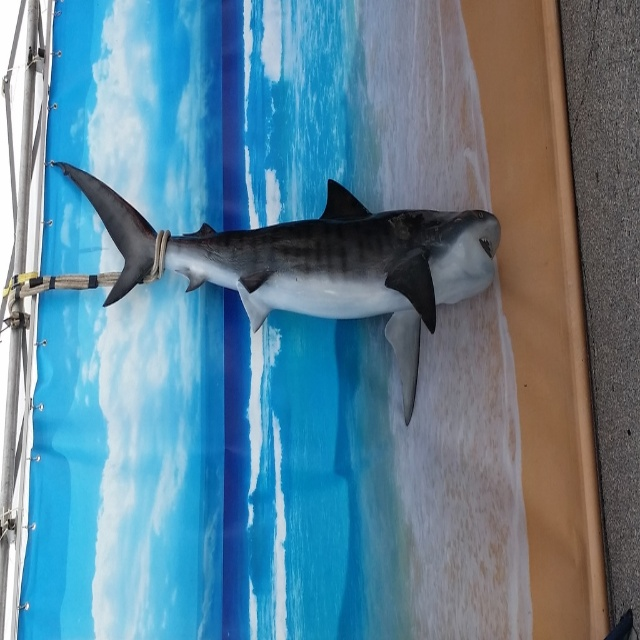Shark: (47, 162, 502, 428)
